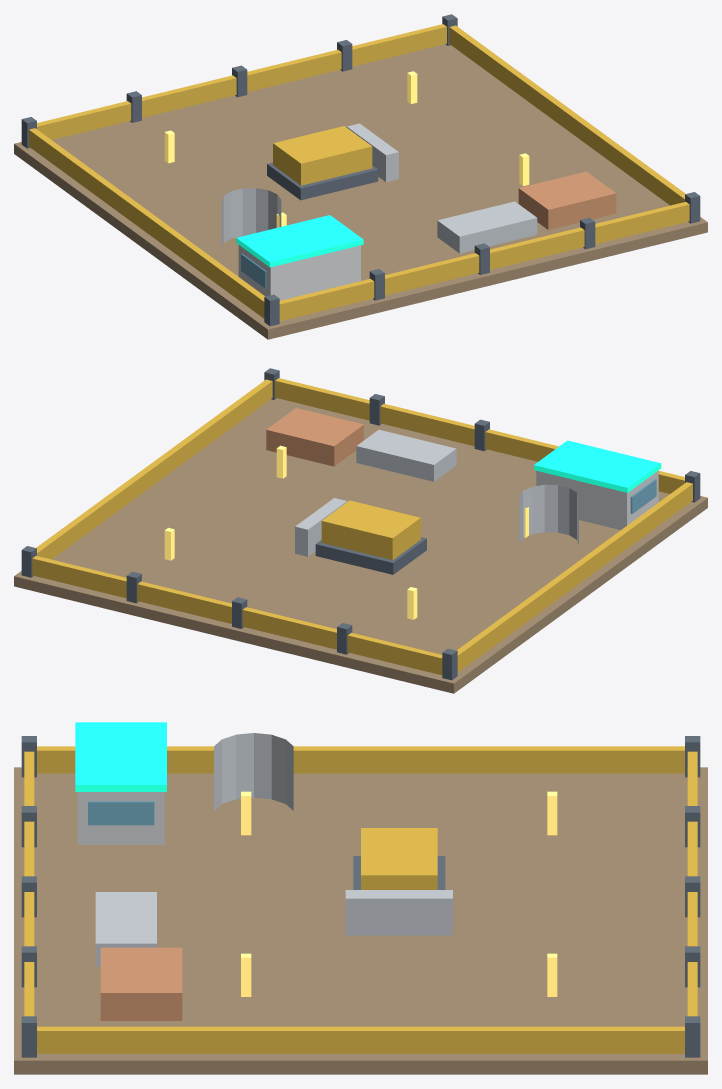
The model's file is stage_1_site_prep.glb.
The picture shows the model from 3 angles, top to bottom: view 1: azimuth 30°, elevation 25°; view 2: azimuth 150°, elevation 25°; view 3: azimuth 270°, elevation 25°; orthographic projection. The views are drawn at different scales.
Visible parts, largest first — view 1: stage_1_site_prep; view 2: stage_1_site_prep; view 3: stage_1_site_prep.
Boxes of the visible parts, <box> form: stage_1_site_prep: <box>14,14,707,339</box>; stage_1_site_prep: <box>14,368,707,693</box>; stage_1_site_prep: <box>14,722,707,1074</box>.
Size of the model in its own units: 2.72 by 0.34 by 2.72.
